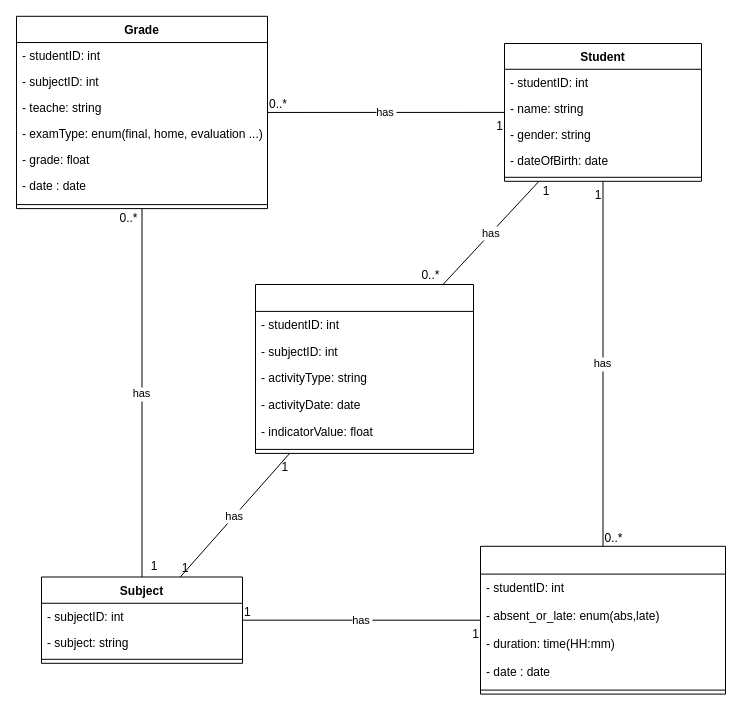
The diagram is 742 pixels wide and 711 high, and some of its shapes have lost their labels. The shapes that lost their labels are listed below. From the top down, each one's box as (x1, y1, x2, y2) in pixels, then its label:
(254, 284, 474, 453): ActivityIndicator
(480, 545, 726, 694): Attendance
